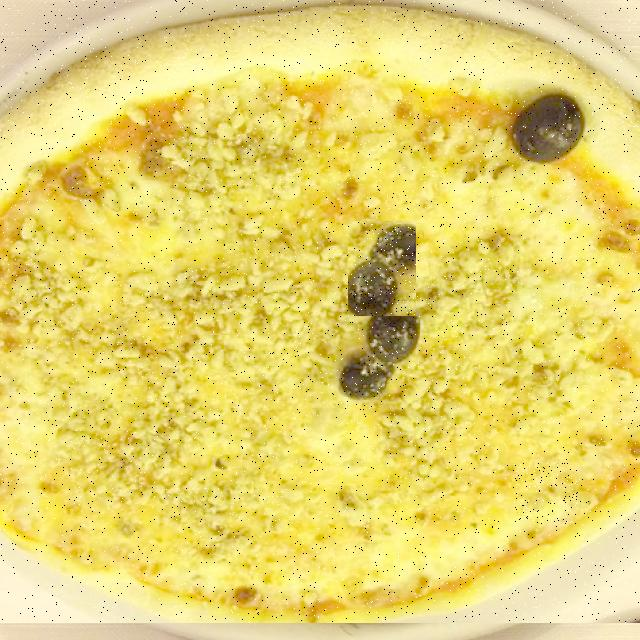Olives: (348, 221, 416, 316), (514, 463, 578, 524)
Pizza: (0, 0, 640, 623)
